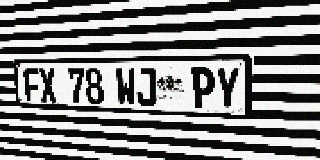7: (67, 68, 86, 104)
8: (85, 68, 104, 105)
F: (23, 69, 41, 102)
J: (135, 68, 157, 107)
P: (191, 67, 214, 109)
W: (116, 68, 136, 106)
X: (39, 69, 57, 103)
Y: (215, 67, 240, 110)
